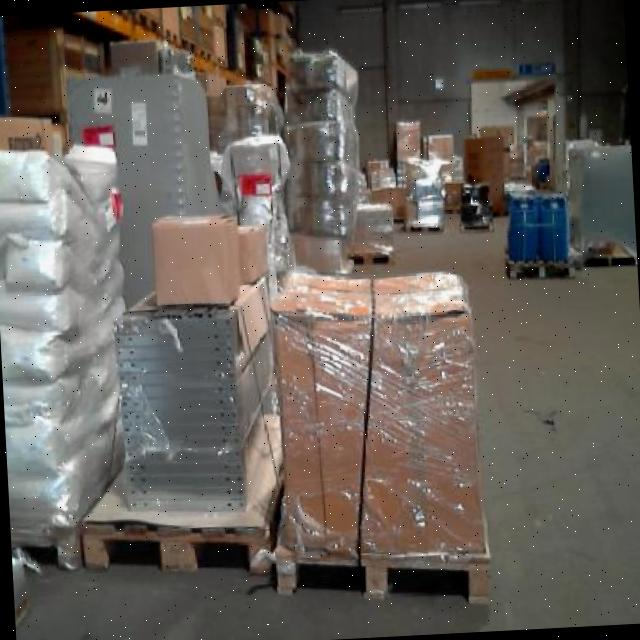pallet: (261, 527, 503, 616), (65, 497, 279, 581), (492, 246, 582, 288), (341, 244, 398, 269), (400, 216, 449, 238)
